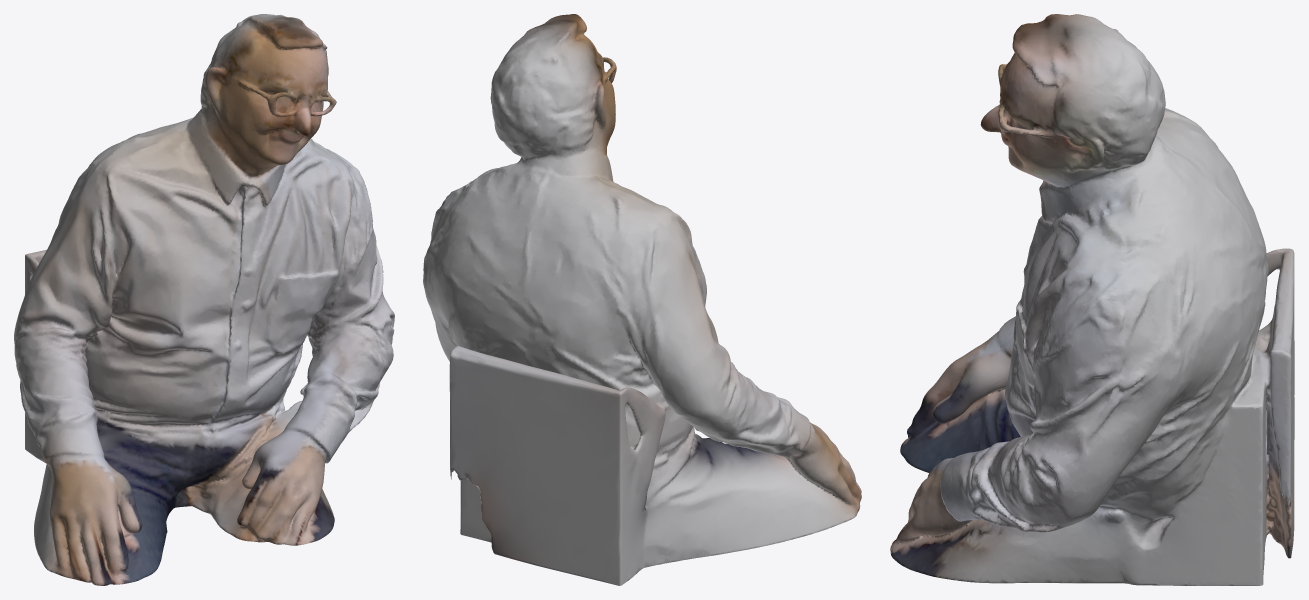
File: jackson-hunyuan3d.glb
3 views of the same model, side by side, from view 1: azimuth 30°, elevation 25°; view 2: azimuth 150°, elevation 25°; view 3: azimuth 270°, elevation 25° (orthographic). The views are drawn at different scales.
Parts seen in each view (by area): view 1: geometry_0; view 2: geometry_0; view 3: geometry_0.
Boxes of the visible parts, x1=… form: geometry_0: x1=14, y1=14, x2=394, y2=585; geometry_0: x1=423, y1=14, x2=861, y2=585; geometry_0: x1=890, y1=14, x2=1294, y2=585.
Bounding box in the file's own units: 1.7 × 1.99 × 1.31.
